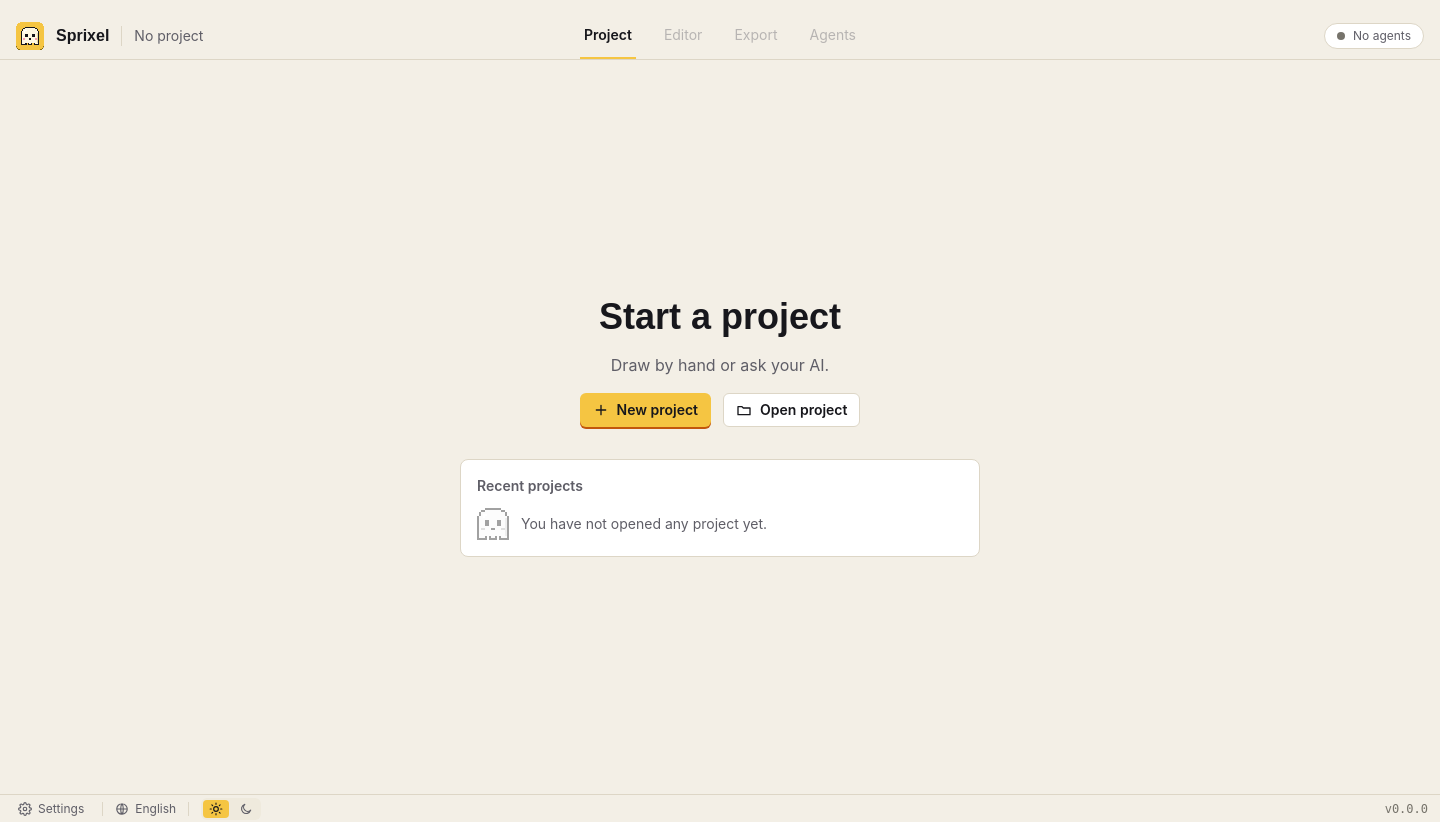
Test: Agents in the app › shows the project an agent opened and adds it to the recent list
Click the button "Open project": (792, 410) top-left (723, 393), bottom-right (860, 427)
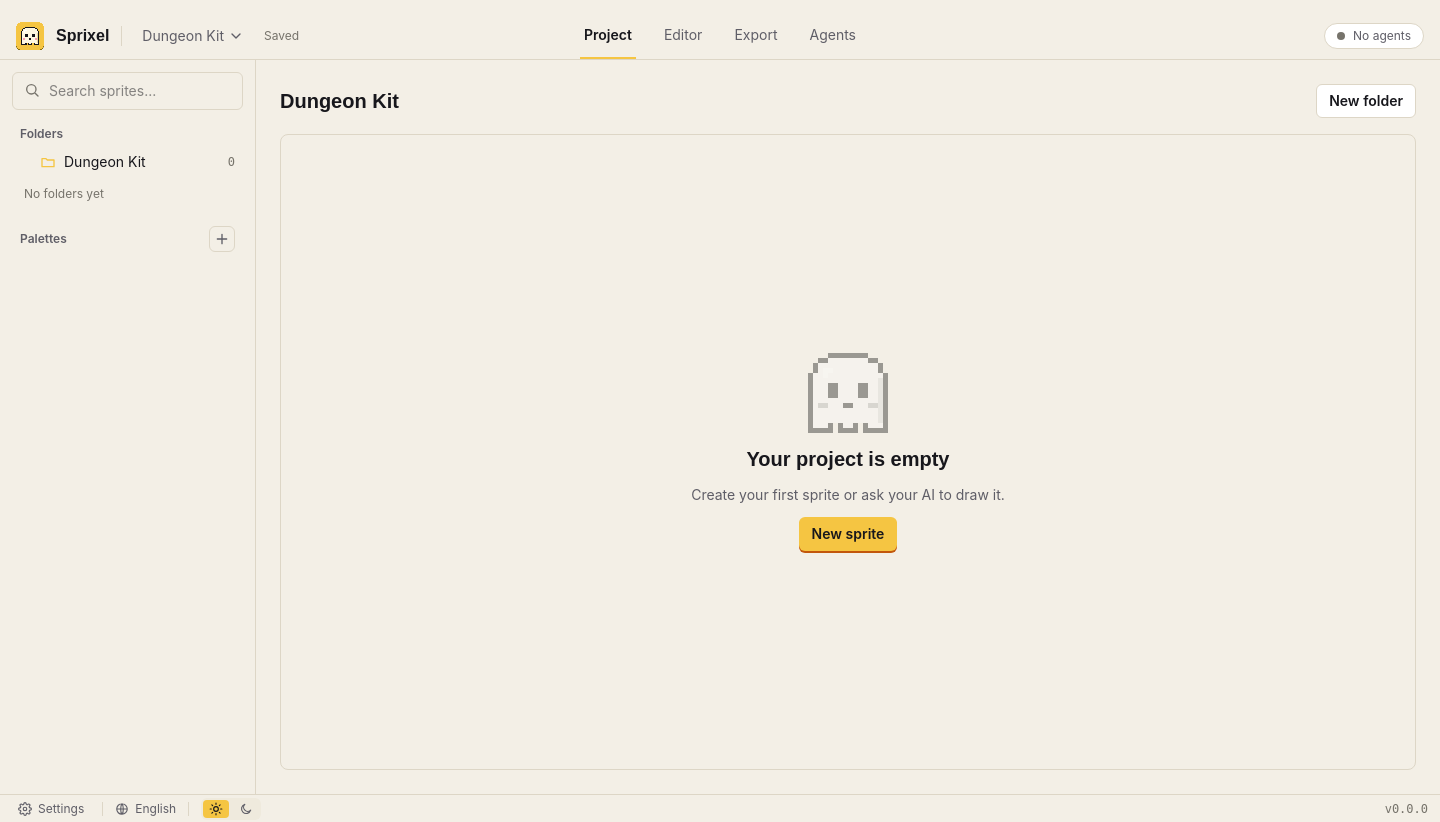
Expected: the text "No folders yet" is shown, top-left (24, 186), bottom-right (104, 201)
